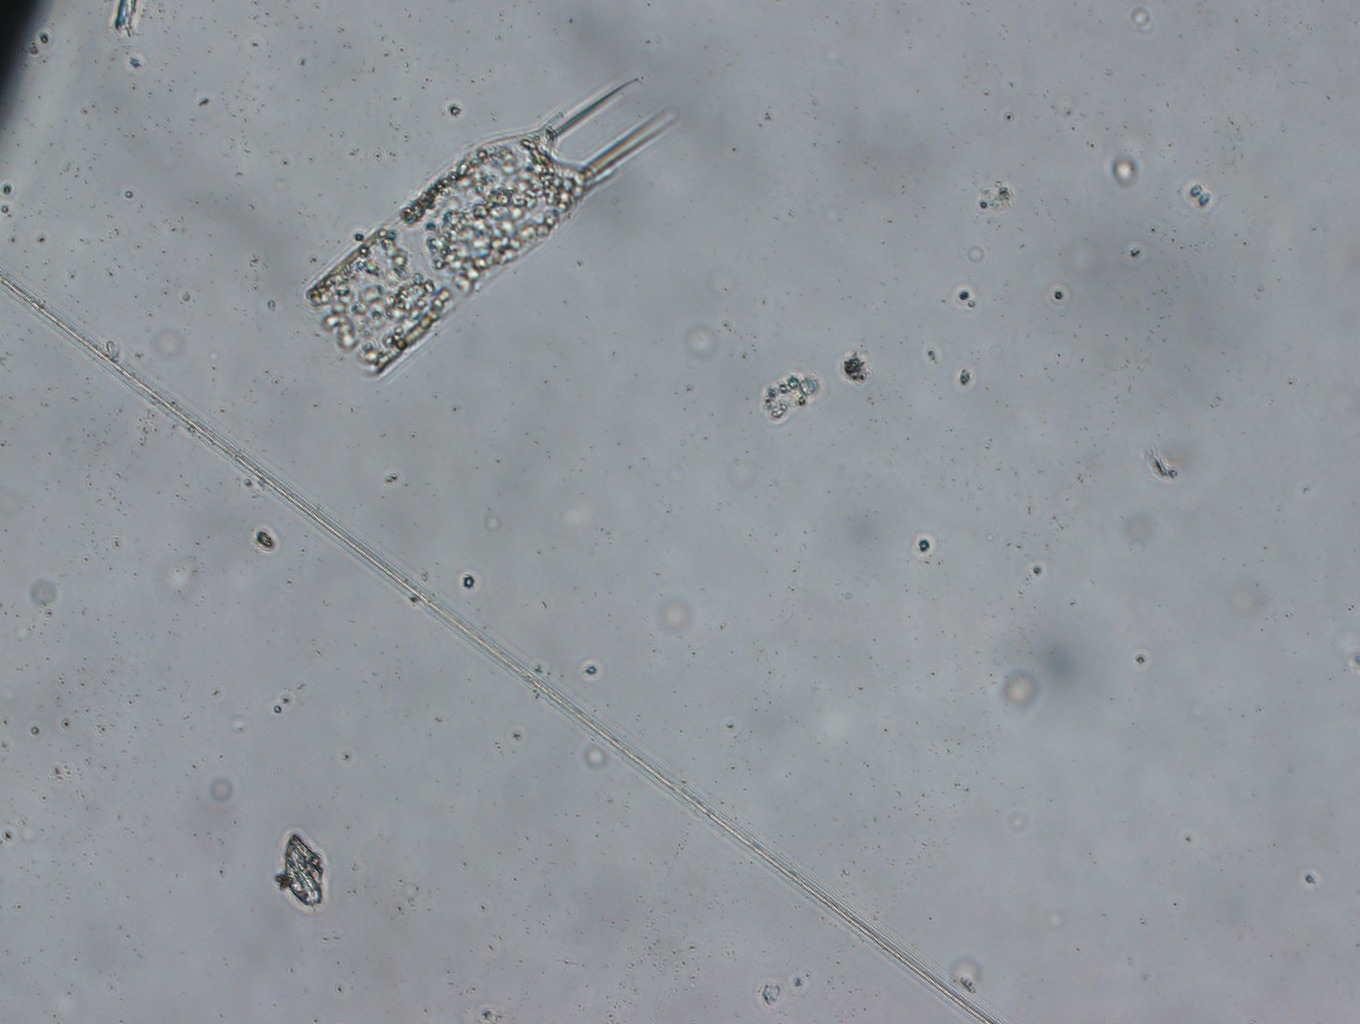biddulphia: (301, 79, 679, 382)
